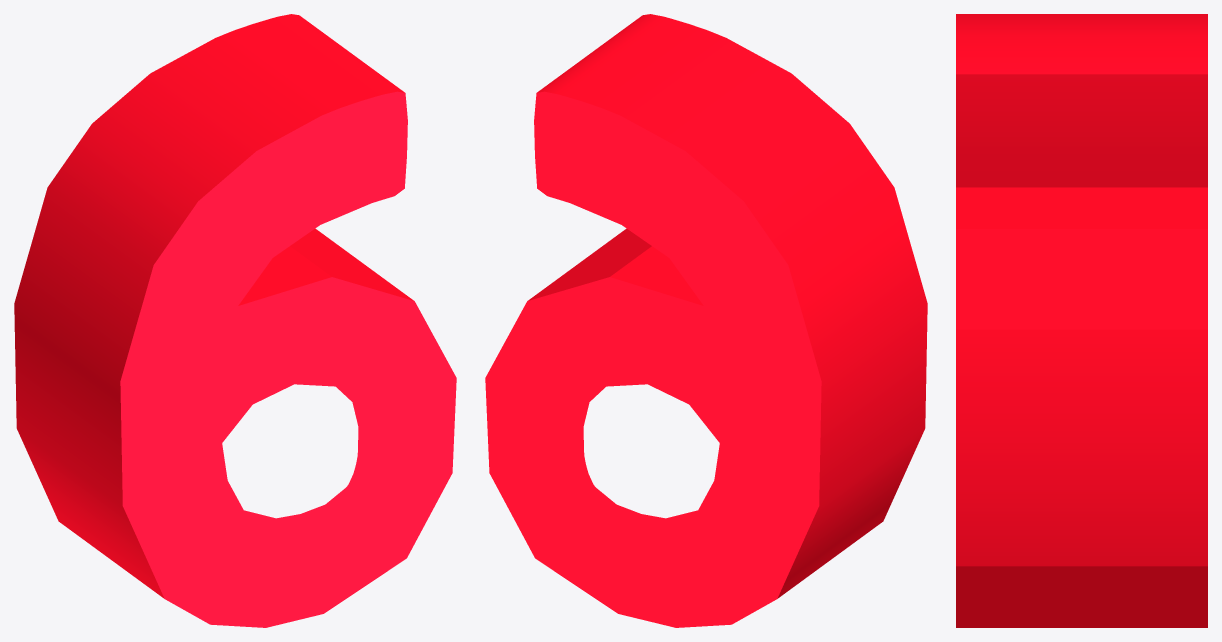
3 renders of one model, left to right at view 1: azimuth 30°, elevation 25°; view 2: azimuth 150°, elevation 25°; view 3: azimuth 270°, elevation 25°, orthographic. The views are drawn at different scales.
Parts seen in each view (by area): view 1: 6_Zyzol_Red; view 2: 6_Zyzol_Red; view 3: 6_Zyzol_Red.
Part boxes in pixels (box(x1,y1,x2,y2)): 6_Zyzol_Red: box(14, 14, 456, 627); 6_Zyzol_Red: box(485, 14, 927, 627); 6_Zyzol_Red: box(956, 14, 1207, 627).
Size of what is drawn, in the model's own units: 0.0823 by 0.1181 by 0.045.
2 materials, 2 textured.
